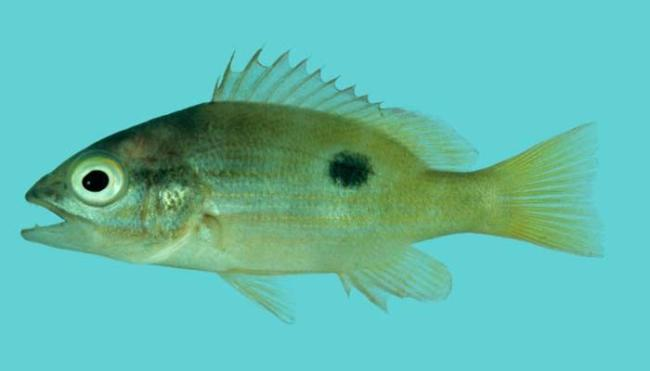fish: (20, 42, 608, 326)
